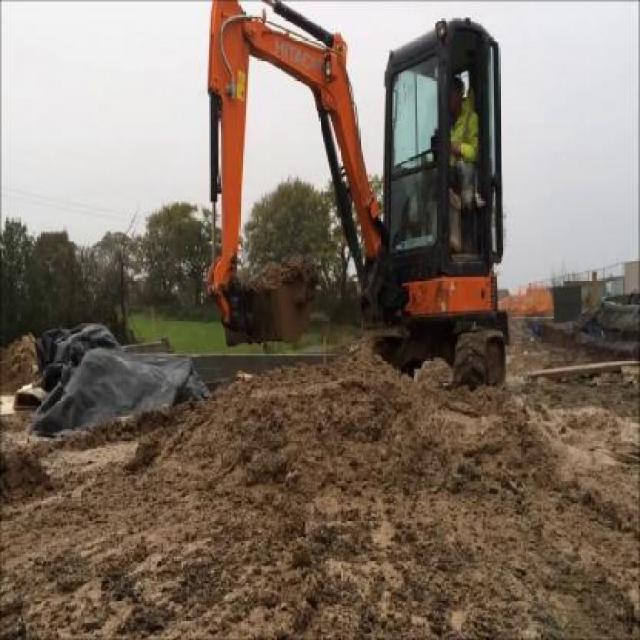Excavator: (205, 0, 509, 391)
